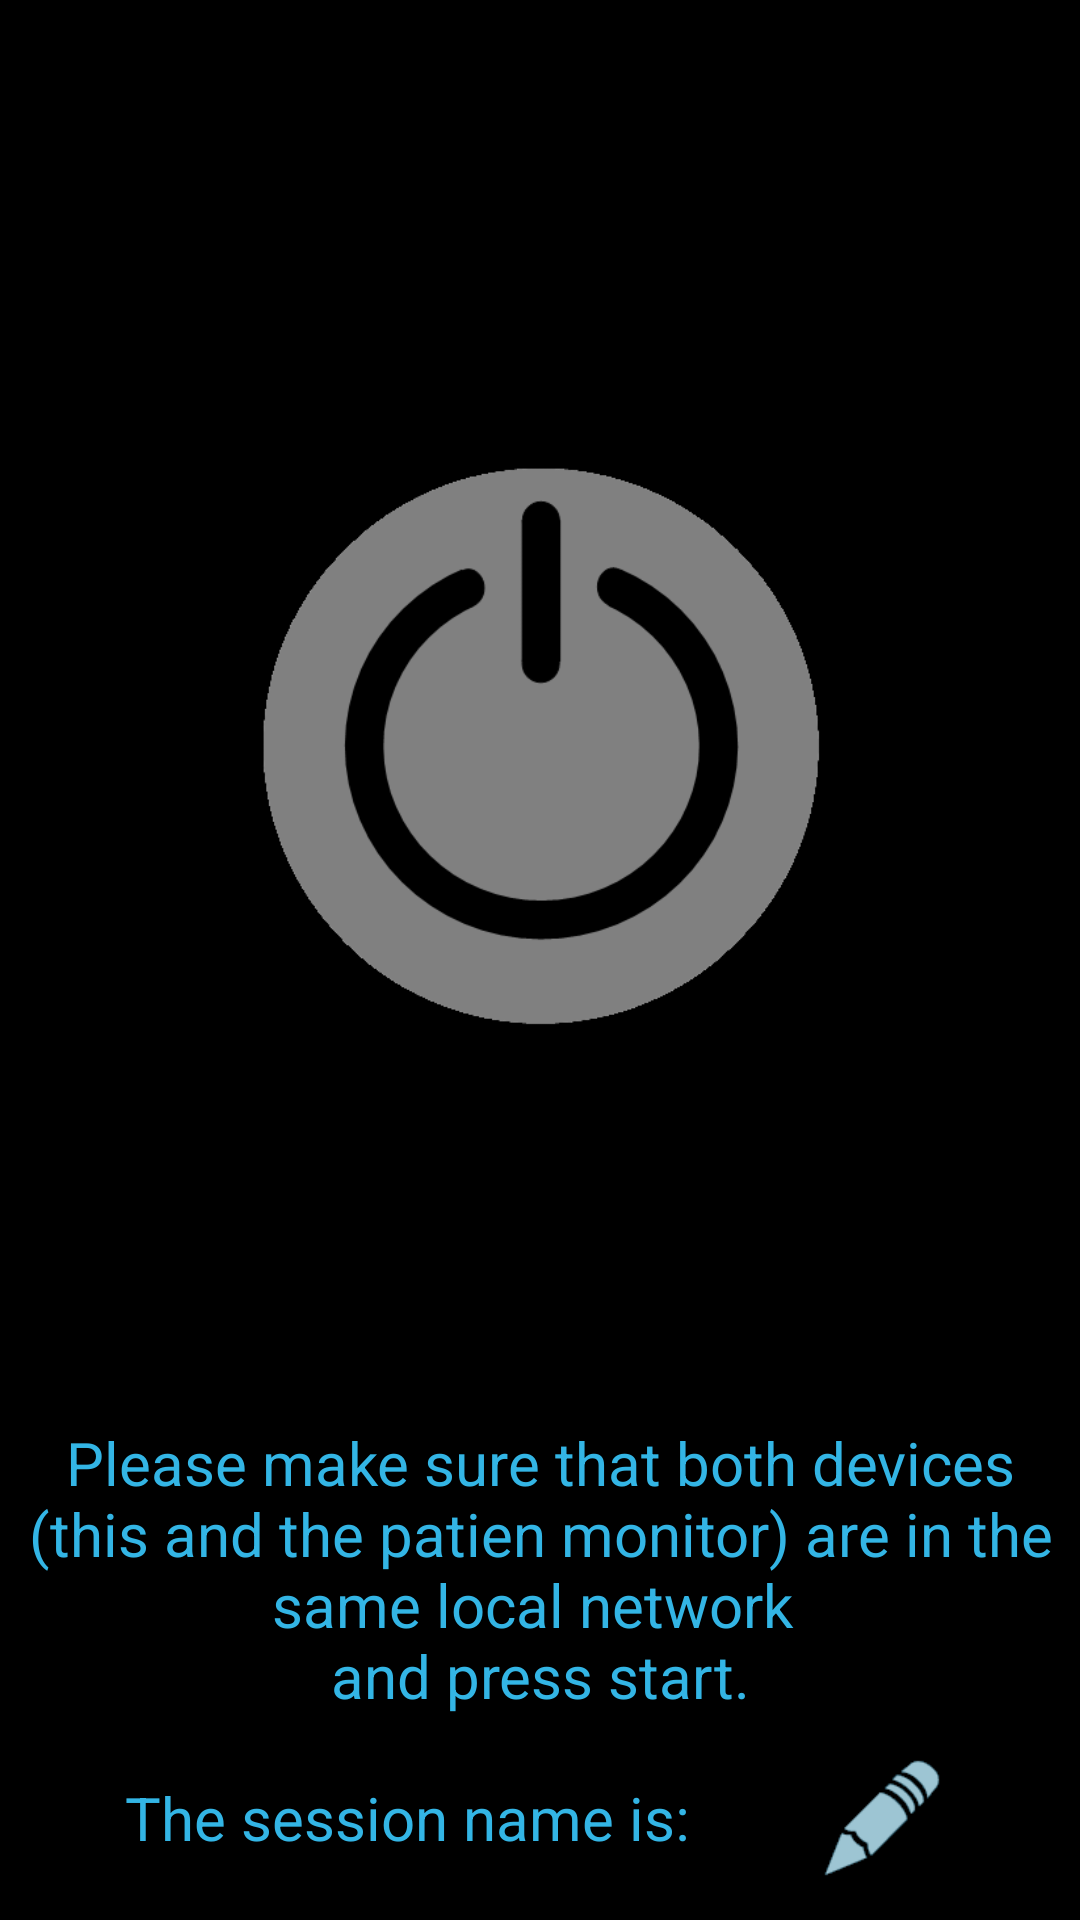

Named icons in this screenshot (1080*1920) and their centers, (x=x, y=y):
edit: (x=882, y=1817)
